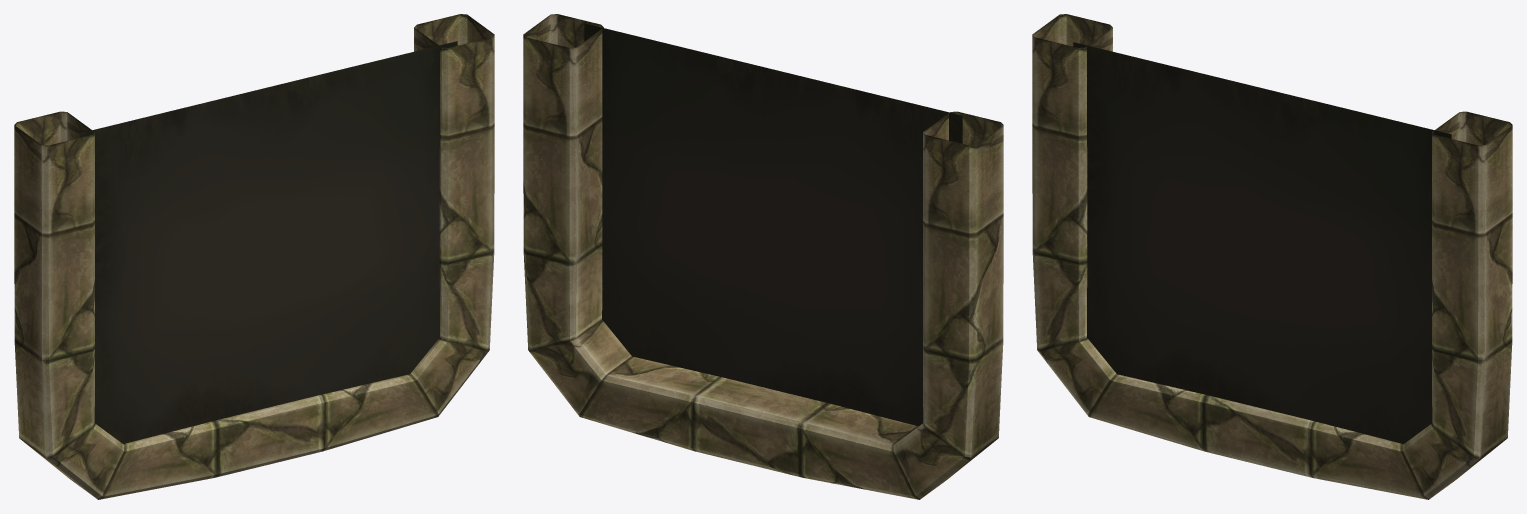
Rendered from entrance border.FBX.
3 views of the same model, side by side, from view 1: azimuth 30°, elevation 25°; view 2: azimuth 150°, elevation 25°; view 3: azimuth 330°, elevation 25° (orthographic).
Visible parts, largest first — view 1: entrance border; view 2: entrance border; view 3: entrance border.
Part boxes in pixels (bbox=[...]): entrance border: bbox=[14, 14, 494, 499]; entrance border: bbox=[523, 14, 1003, 499]; entrance border: bbox=[1032, 14, 1512, 499].
Size of the model in its own units: 6.68 by 5.3 by 0.8124.
